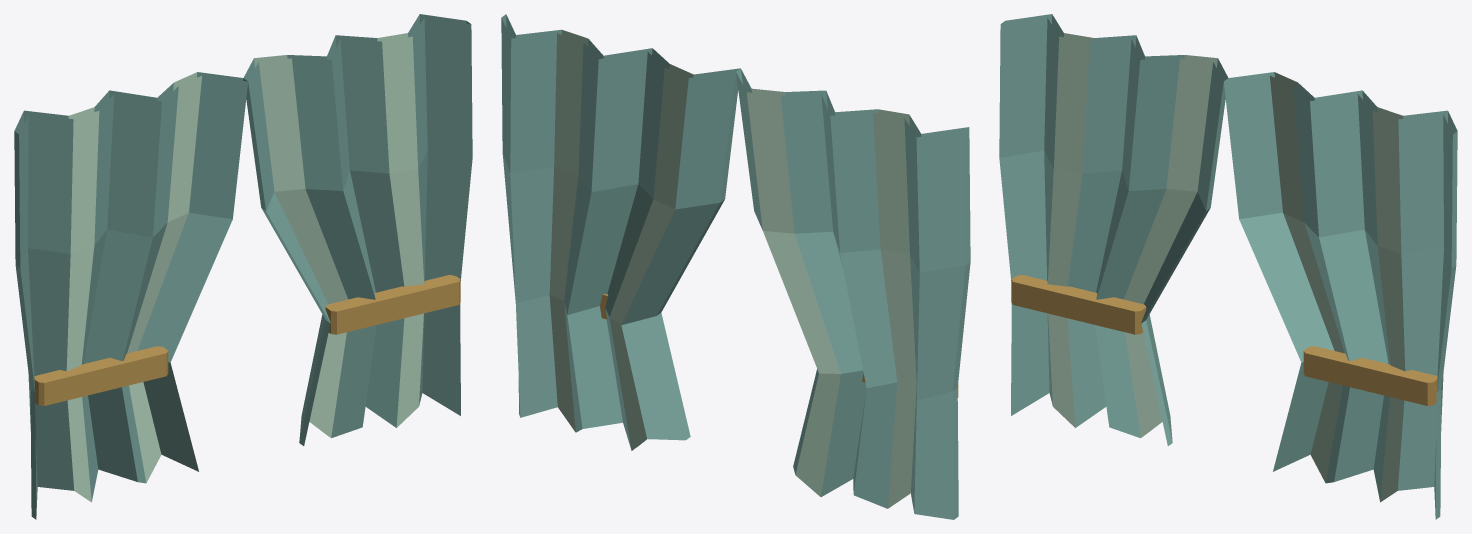
The model's file is brick_curtain.glb.
The picture shows the model from 3 angles, left to right: view 1: azimuth 30°, elevation 25°; view 2: azimuth 150°, elevation 25°; view 3: azimuth 330°, elevation 25°; orthographic projection. The views are drawn at different scales.
Visible parts, largest first — view 1: brick_curtain; view 2: brick_curtain; view 3: brick_curtain.
Boxes of the visible parts, bbox=[...] form: brick_curtain: bbox=[14, 14, 472, 519]; brick_curtain: bbox=[501, 14, 970, 519]; brick_curtain: bbox=[999, 14, 1457, 519].
Bounding box in the file's own units: 0.164 × 0.134 × 0.0188.
